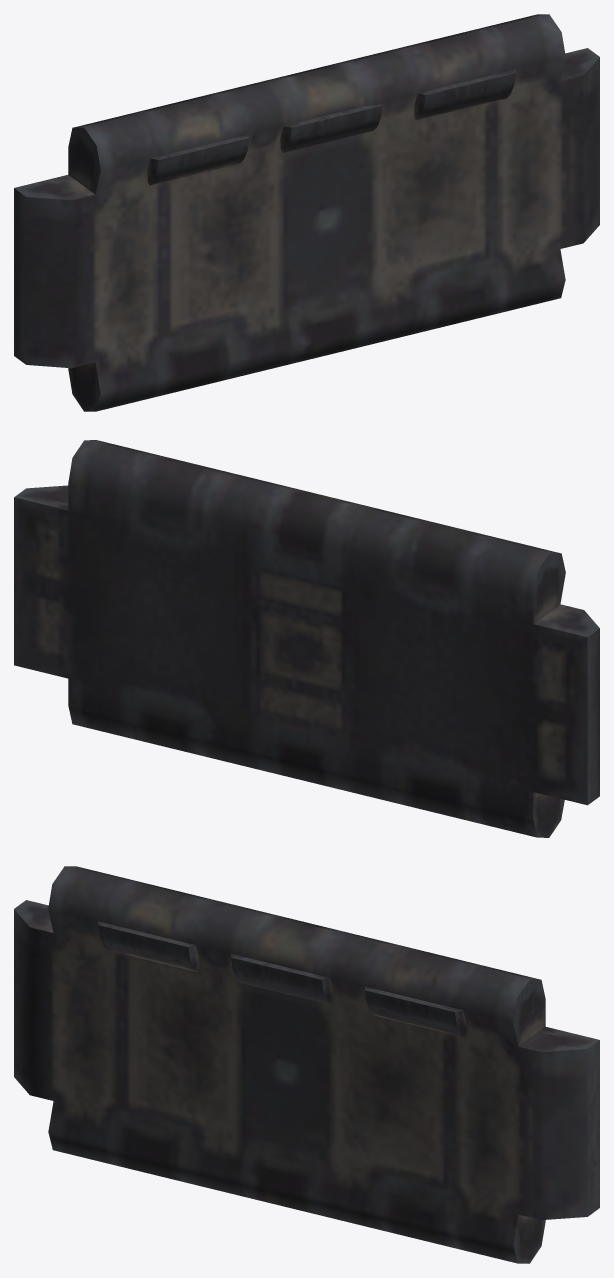
3 renders of one model, top to bottom at view 1: azimuth 30°, elevation 25°; view 2: azimuth 150°, elevation 25°; view 3: azimuth 330°, elevation 25°, orthographic.
Visible parts, largest first — view 1: set_0_group_0; view 2: set_0_group_0; view 3: set_0_group_0.
Part boxes in pixels (left/top/right/bottom): set_0_group_0: left=14, top=14, right=599, bottom=411; set_0_group_0: left=14, top=440, right=599, bottom=837; set_0_group_0: left=14, top=866, right=599, bottom=1263.
Size of the model in its own units: 0.45 by 0.213 by 0.0494.
1 material, 1 textured.
